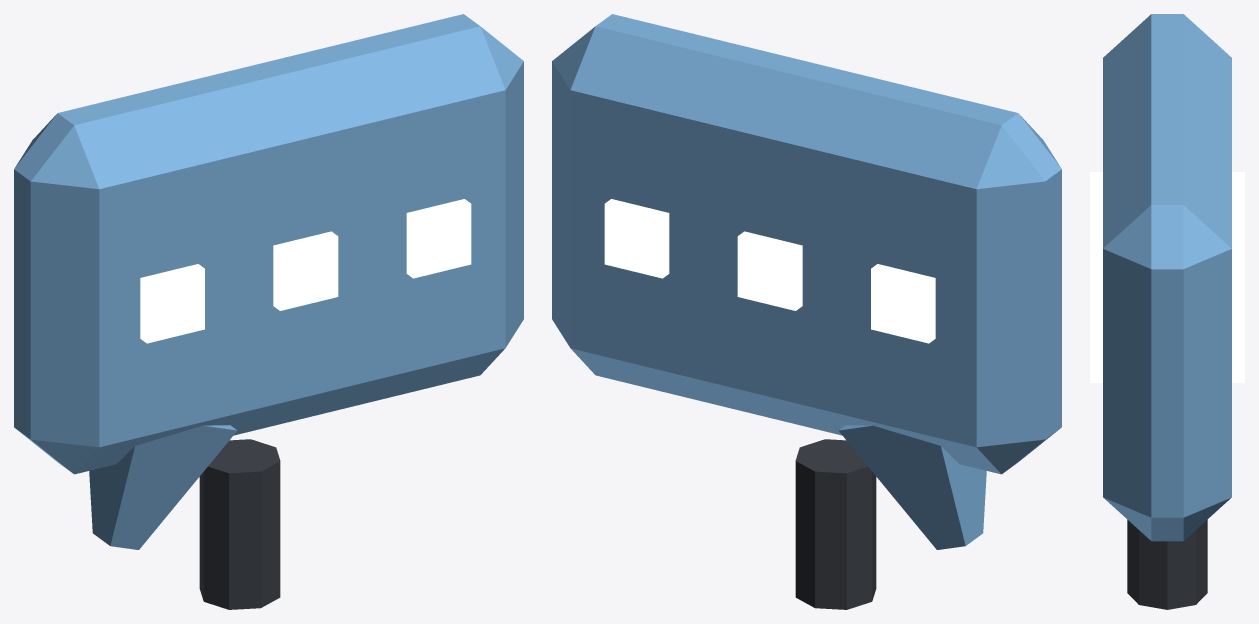
The model's file is selfservice_m1_1.glb.
3 views of the same model, side by side, from view 1: azimuth 30°, elevation 25°; view 2: azimuth 150°, elevation 25°; view 3: azimuth 270°, elevation 25° (orthographic). The views are drawn at different scales.
Visible parts, largest first — view 1: selfservice_m1_1_mesh; view 2: selfservice_m1_1_mesh; view 3: selfservice_m1_1_mesh.
Part boxes in pixels (<box>): selfservice_m1_1_mesh: <box>14,14,523,609</box>; selfservice_m1_1_mesh: <box>552,14,1061,609</box>; selfservice_m1_1_mesh: <box>1090,14,1244,609</box>.
Size of the model in its own units: 0.34 by 0.34 by 0.096.
